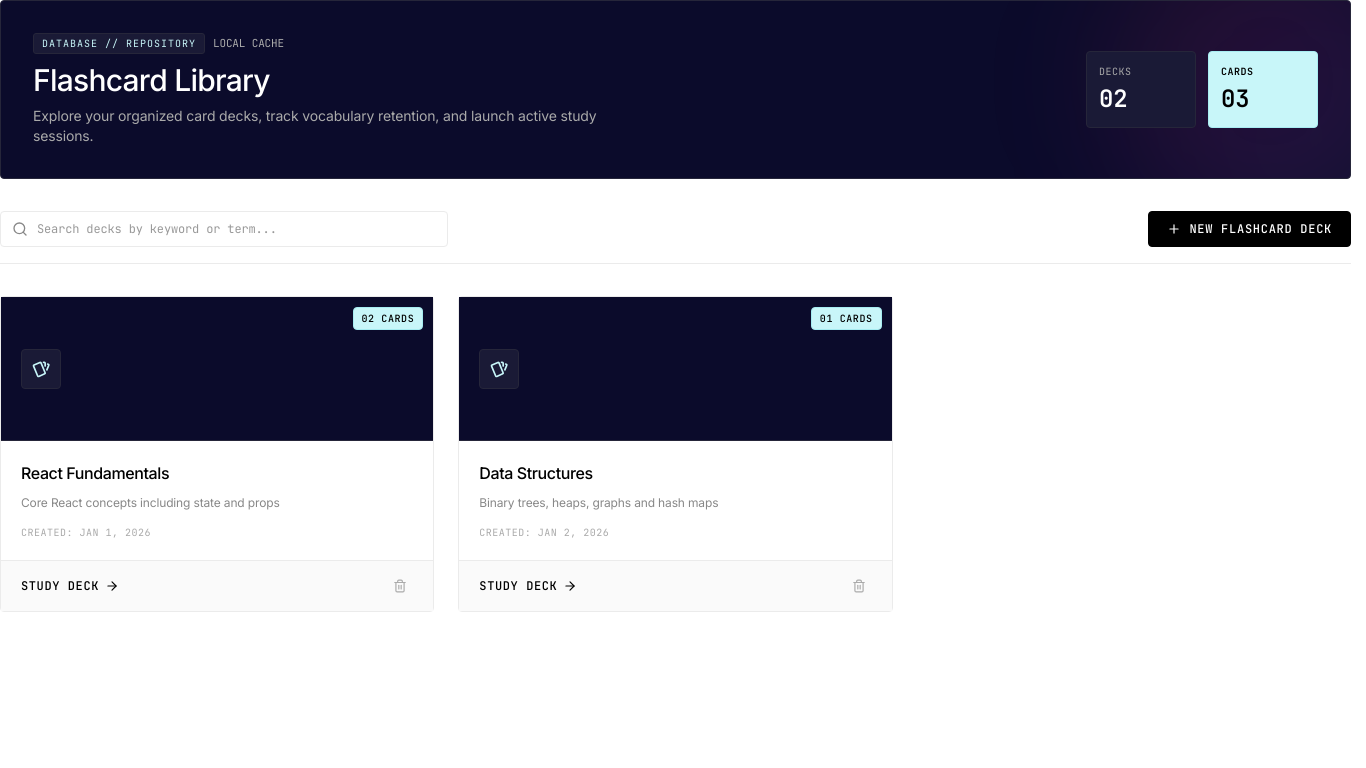
Scenario: MyFlashcards component › opens delete confirmation modal and confirms deletion of a deck
The image size is (1366, 768).
Note: Click delete on first deck
Click the button titled "Delete Deck" below "Jan 1, 2026" at coordinates (400, 586), box [387, 572, 413, 598]
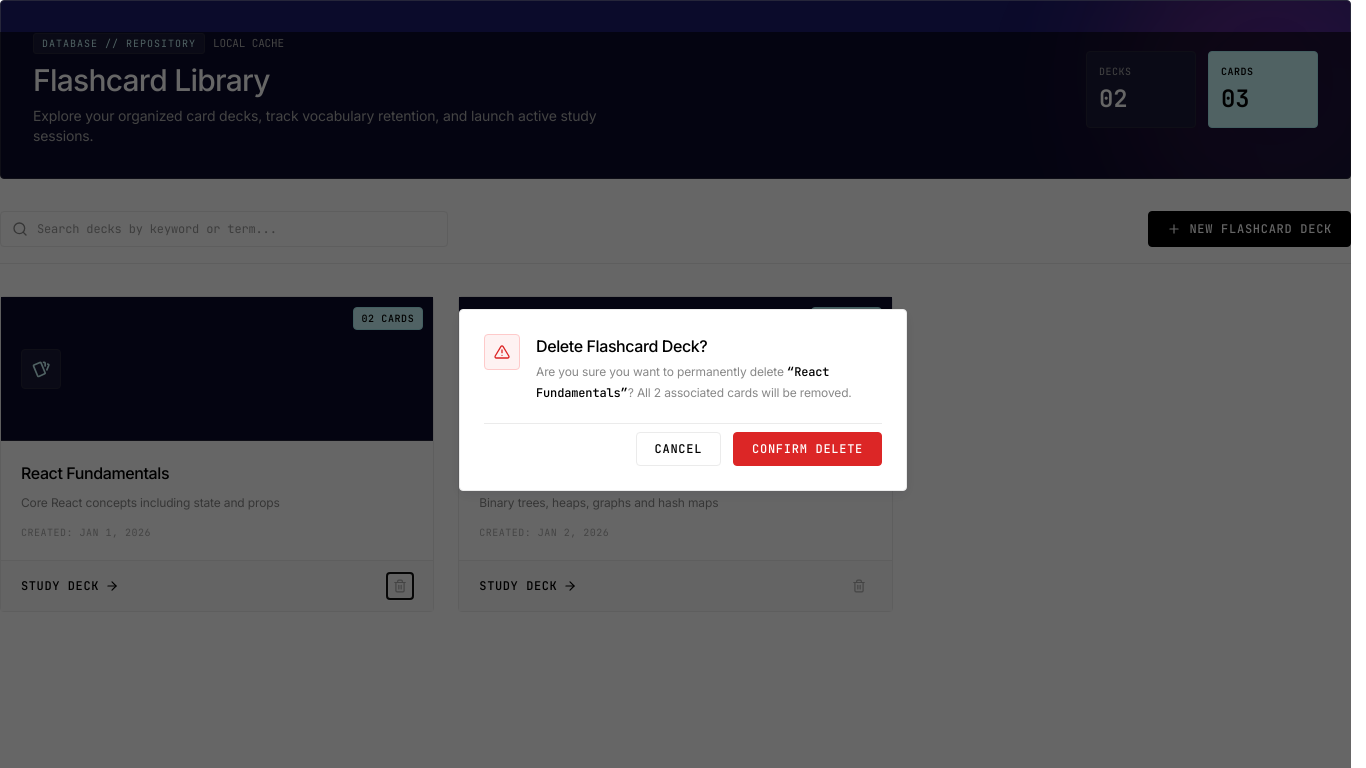
expect the heading "Delete Flashcard Deck?" is shown: met, box [536, 336, 707, 356]
expect the text "“React Fundamentals”" is shown: met, box [536, 364, 829, 400]
Note: Confirm deletion
Click the button "Confirm Delete" at coordinates (808, 449), box [733, 432, 882, 466]
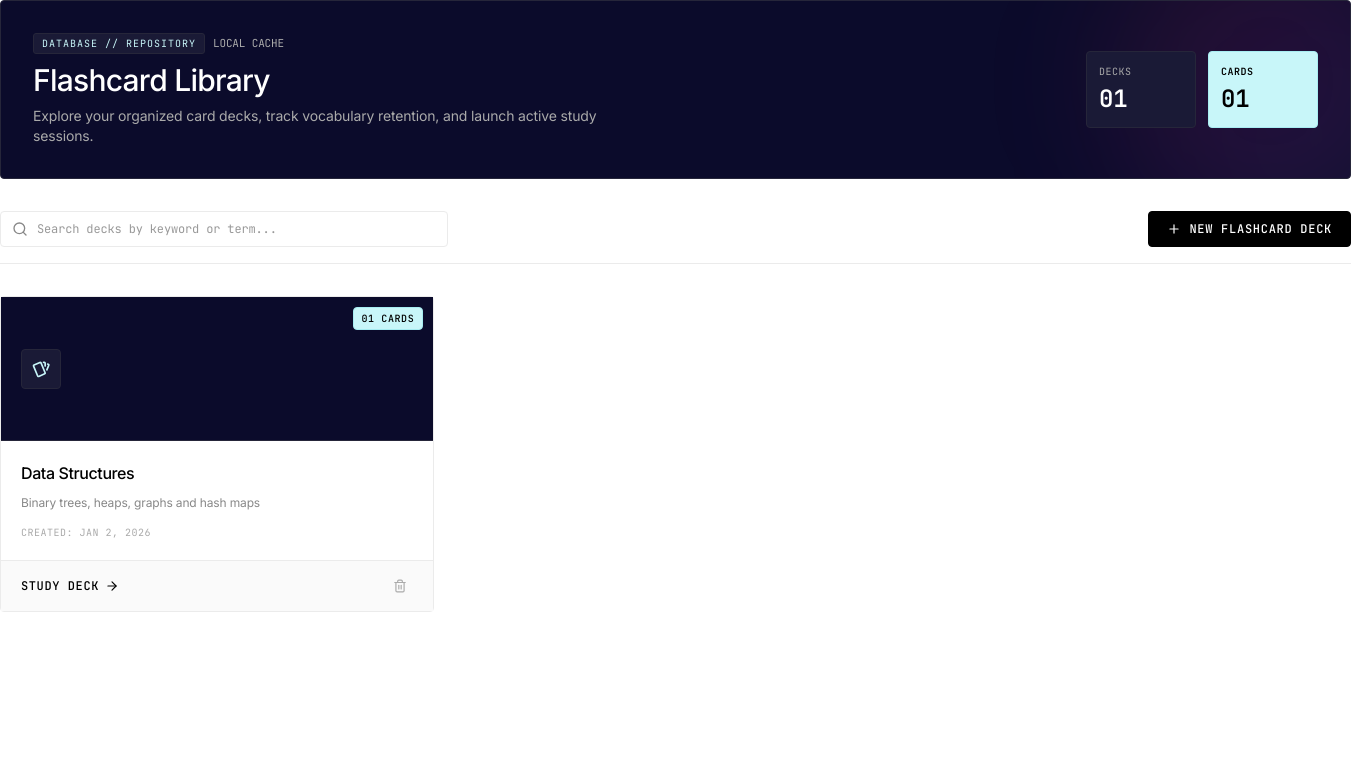
expect the link "Data Structures" is shown: met, box [21, 463, 134, 483]
expect the link "React Fundamentals" is gone: met
